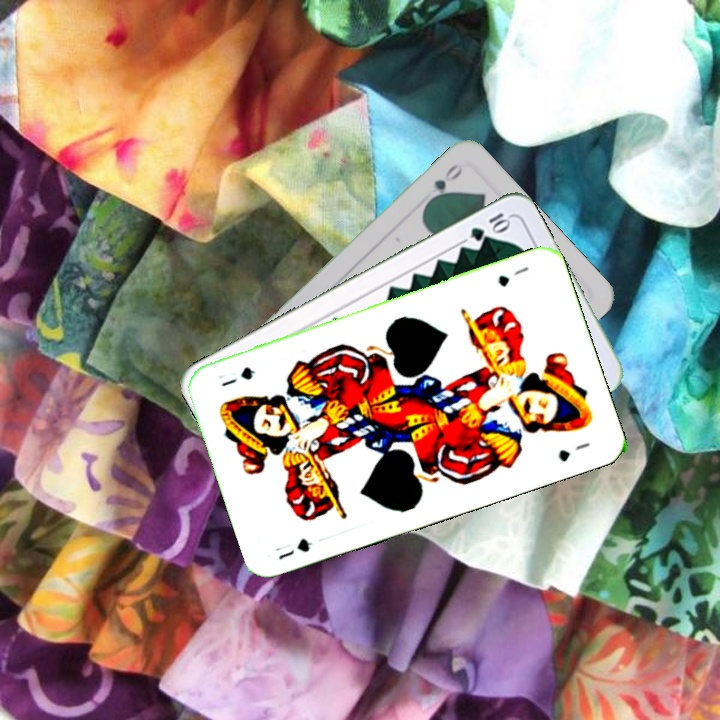G10: (466, 208, 513, 244)
GO: (422, 160, 465, 208)
GU: (270, 534, 315, 563), (494, 262, 531, 290)
